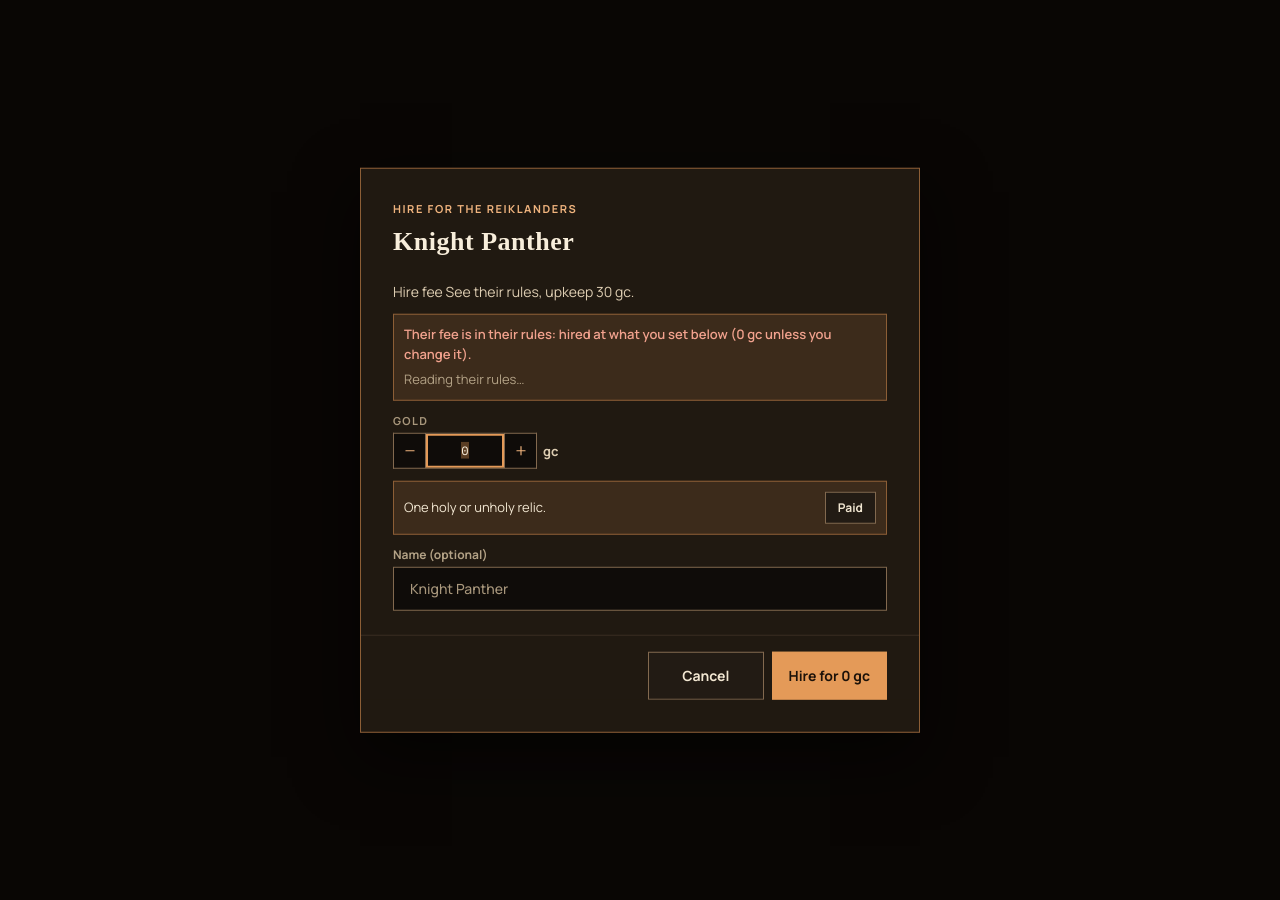
Test case: HireDialog › records a fee nothing charges when Paid is pressed, and charges no gold
Later steps or results of the test are not shown.
Expected: the text "One holy or unholy relic." is shown, [404,498,546,516]
Click the button "Paid": (850,507) [825,491,876,523]
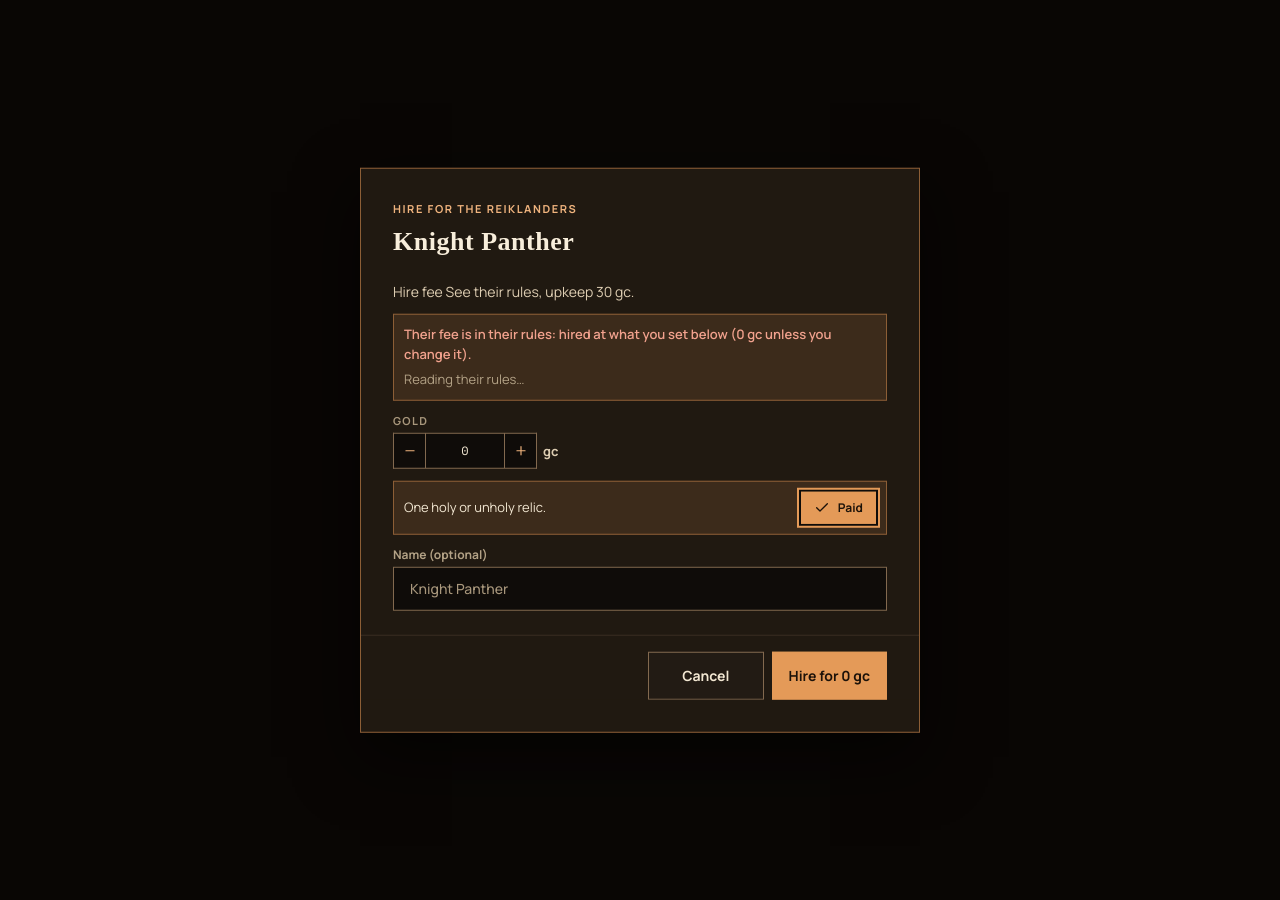
Expected: the button "Paid" is pressed, [801,491,876,523]
